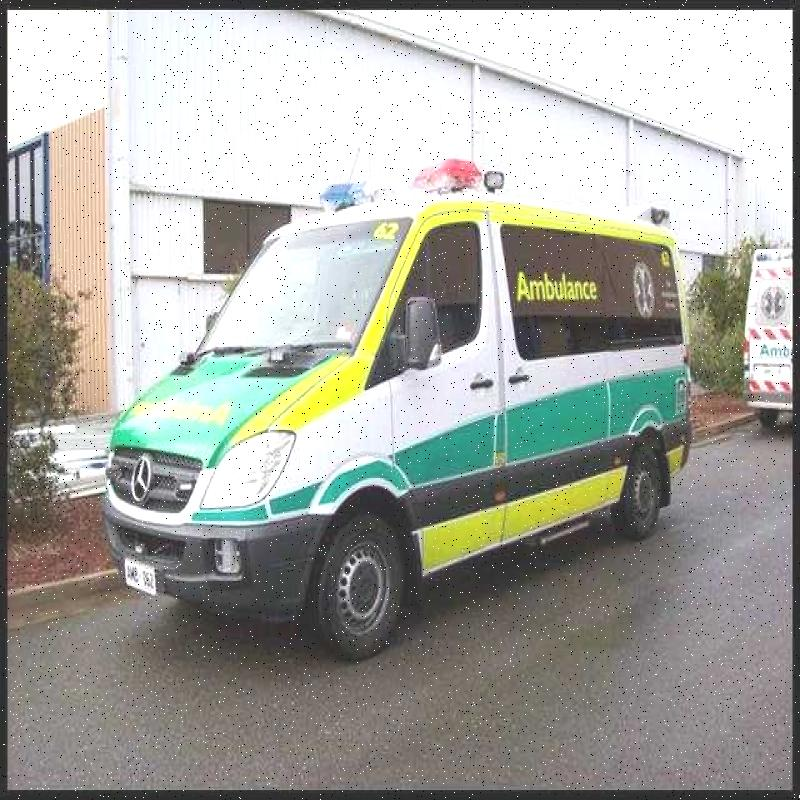AmbulanceSiren: (327, 142, 504, 213)
